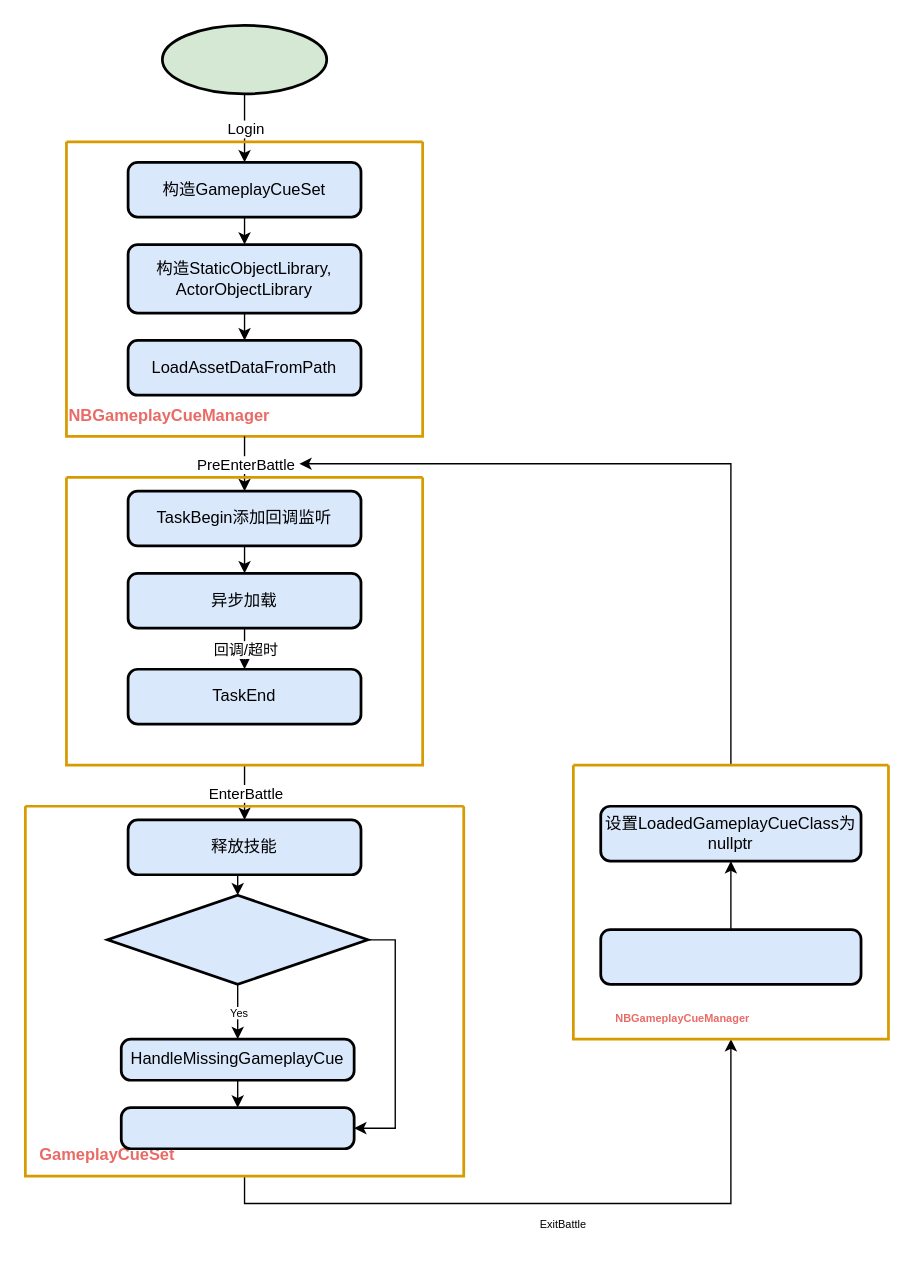
Some shapes in this 912 by 1267 pixel diagram are drawn without their labels. Each missing label, with the centre of its shape:
"CueData.LoadedGameplay CueClass == nullptr" belongs at pixel 237 939.
"LoadingTaskGameplayCue" belongs at pixel 243 620.
"依次遍历GameplayCueData。卸载GameplayCueNotifyObj" belongs at pixel 730 956.
"创建实例" belongs at pixel 237 1127.
"开始" belongs at pixel 243 59.
